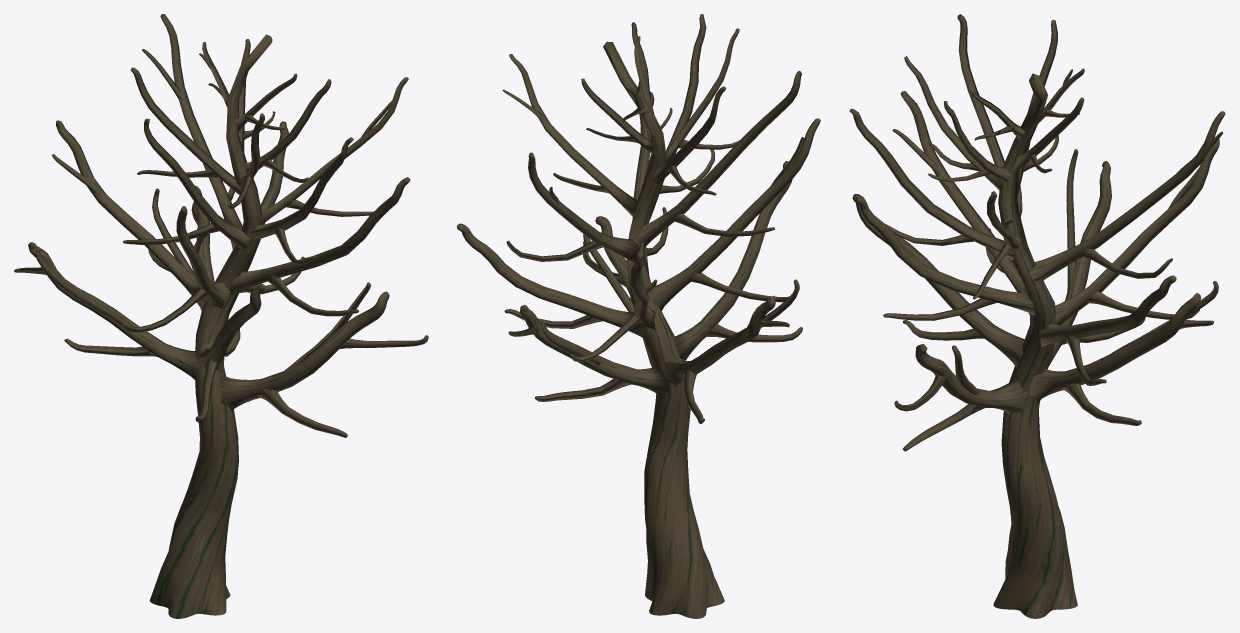
Rendered from DeadTree_1__go_village.glb.
3 views of the same model, side by side, from view 1: azimuth 30°, elevation 25°; view 2: azimuth 150°, elevation 25°; view 3: azimuth 270°, elevation 25° (orthographic). The views are drawn at different scales.
Parts seen in each view (by area): view 1: DeadTree_1; view 2: DeadTree_1; view 3: DeadTree_1.
Part boxes in pixels (x1=…): DeadTree_1: x1=14, y1=14, x2=428, y2=618; DeadTree_1: x1=457, y1=14, x2=820, y2=618; DeadTree_1: x1=849, y1=14, x2=1225, y2=618.
Size of the model in its own units: 6.15 by 9.5 by 5.75.
1 material, 1 textured.
